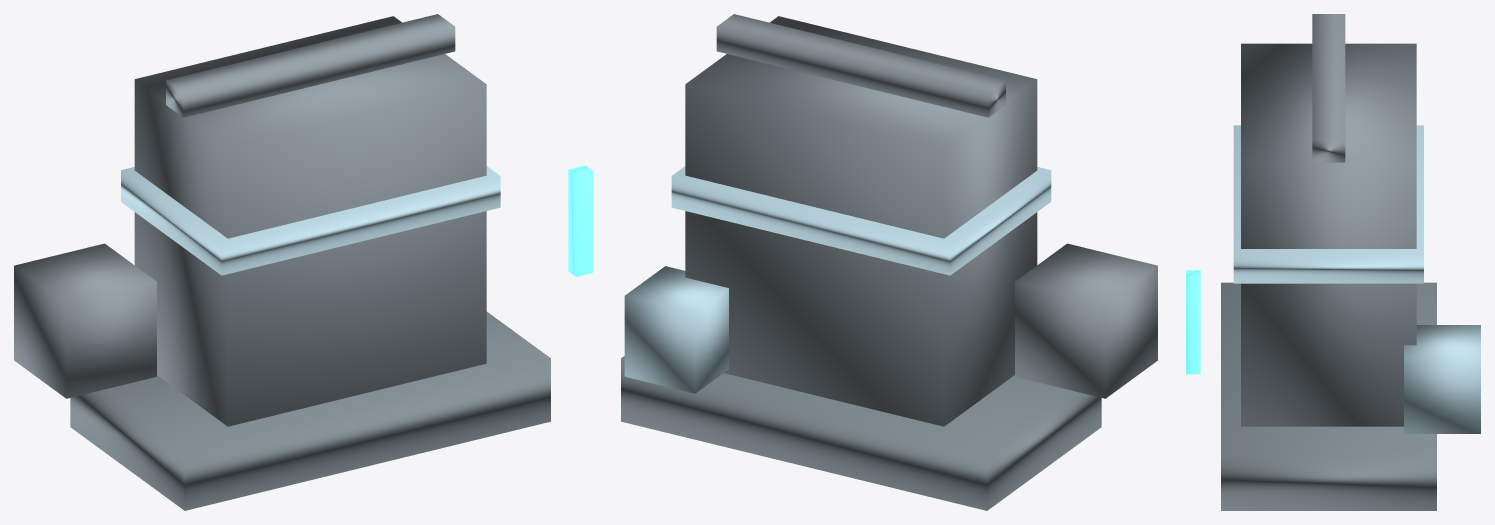
The model's file is ice-mine-freeze-compressor-lod1.glb.
3 renders of one model, left to right at view 1: azimuth 30°, elevation 25°; view 2: azimuth 150°, elevation 25°; view 3: azimuth 270°, elevation 25°, orthographic. The views are drawn at different scales.
Parts seen in each view (by area): view 1: ice-mine-freeze-compressor-body, ice-mine-freeze-compressor-skid, ice-mine-freeze-compressor-drive, ice-mine-freeze-compressor-jacket, ice-mine-freeze-compressor-service-rail, ice-mine-freeze-compressor-status; view 2: ice-mine-freeze-compressor-body, ice-mine-freeze-compressor-skid, ice-mine-freeze-compressor-drive, ice-mine-freeze-compressor-jacket, ice-mine-freeze-compressor-service-rail, ice-mine-freeze-compressor-frost-trap; view 3: ice-mine-freeze-compressor-body, ice-mine-freeze-compressor-skid, ice-mine-freeze-compressor-jacket, ice-mine-freeze-compressor-frost-trap, ice-mine-freeze-compressor-service-rail, ice-mine-freeze-compressor-status.
Boxes of the visible parts, box(x1,y1,x2,y2) form: ice-mine-freeze-compressor-body: box(134, 16, 486, 426); ice-mine-freeze-compressor-skid: box(70, 311, 550, 510); ice-mine-freeze-compressor-drive: box(14, 243, 156, 398); ice-mine-freeze-compressor-jacket: box(121, 166, 500, 275); ice-mine-freeze-compressor-service-rail: box(166, 14, 455, 117); ice-mine-freeze-compressor-status: box(568, 165, 592, 276); ice-mine-freeze-compressor-body: box(685, 16, 1037, 426); ice-mine-freeze-compressor-skid: box(621, 356, 1101, 510); ice-mine-freeze-compressor-drive: box(1015, 243, 1157, 398); ice-mine-freeze-compressor-jacket: box(671, 166, 1051, 275); ice-mine-freeze-compressor-service-rail: box(716, 14, 1005, 117); ice-mine-freeze-compressor-frost-trap: box(624, 266, 728, 393); ice-mine-freeze-compressor-body: box(1241, 43, 1416, 426); ice-mine-freeze-compressor-skid: box(1221, 282, 1436, 510); ice-mine-freeze-compressor-jacket: box(1233, 125, 1423, 283); ice-mine-freeze-compressor-frost-trap: box(1404, 325, 1480, 433); ice-mine-freeze-compressor-service-rail: box(1312, 14, 1345, 162); ice-mine-freeze-compressor-status: box(1186, 270, 1200, 374).
Size of the model in its own units: 2.84 by 2.11 by 1.61.
